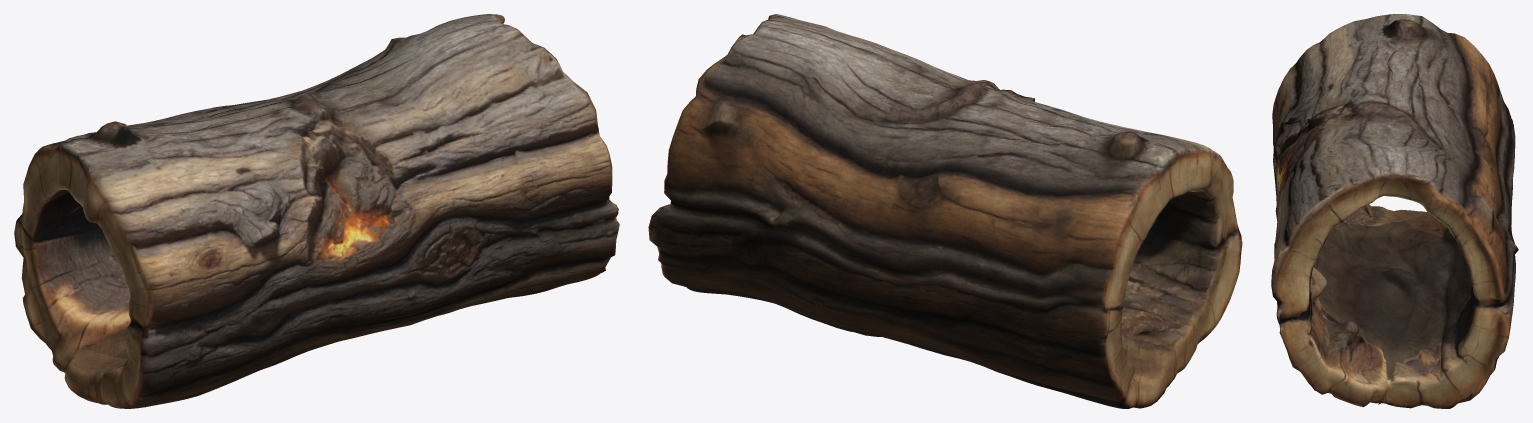
File: A_dead_hollow_log_Ga_0425083928.fbx
3 views of the same model, side by side, from view 1: azimuth 30°, elevation 25°; view 2: azimuth 150°, elevation 25°; view 3: azimuth 270°, elevation 25° (orthographic). The views are drawn at different scales.
Visible parts, largest first — view 1: Mesh_0; view 2: Mesh_0; view 3: Mesh_0.
Boxes of the visible parts, <box> form: Mesh_0: <box>14,14,619,408</box>; Mesh_0: <box>648,14,1242,408</box>; Mesh_0: <box>1271,14,1518,408</box>.
Size of the model in its own units: 199 by 108 by 99.98.
1 material, 1 textured.
